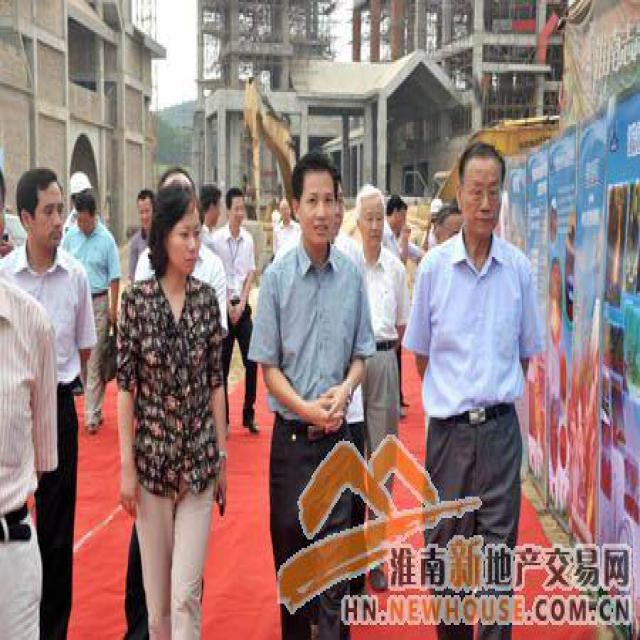head: (453, 132, 510, 245), (290, 147, 344, 254), (150, 174, 203, 273), (16, 162, 67, 256), (351, 179, 386, 258), (72, 183, 101, 234), (198, 179, 222, 232), (225, 183, 249, 230), (388, 192, 411, 237), (135, 187, 155, 232)
person: (409, 144, 561, 633), (254, 154, 378, 634), (124, 184, 233, 634), (9, 157, 100, 628), (64, 193, 129, 434)
